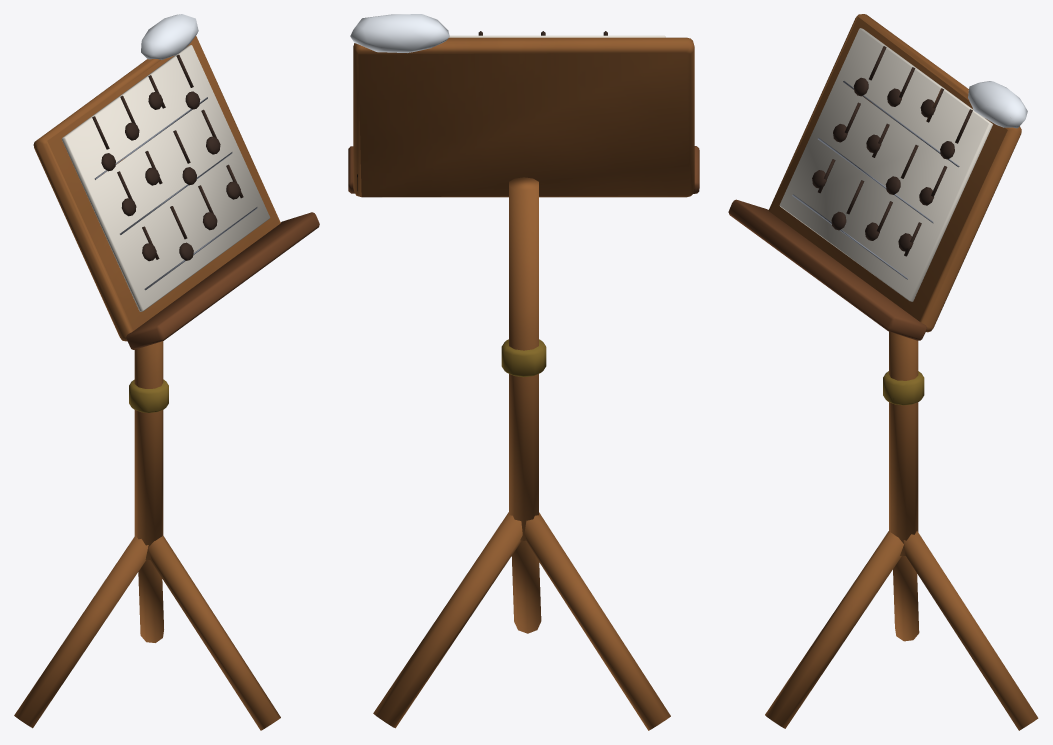
File: music_stand.glb
3 views of the same model, side by side, from view 1: azimuth 30°, elevation 25°; view 2: azimuth 150°, elevation 25°; view 3: azimuth 270°, elevation 25° (orthographic). The views are drawn at different scales.
Visible parts, largest first — view 1: desk; view 2: desk; view 3: desk.
Boxes of the visible parts, x1,y1,x2,y2 form: desk: (14, 14, 319, 730); desk: (348, 14, 699, 730); desk: (728, 14, 1038, 730).
Size of the model in its own units: 0.6718 by 1.36 by 0.5927.
Materials: 1 (1 with a texture image).
